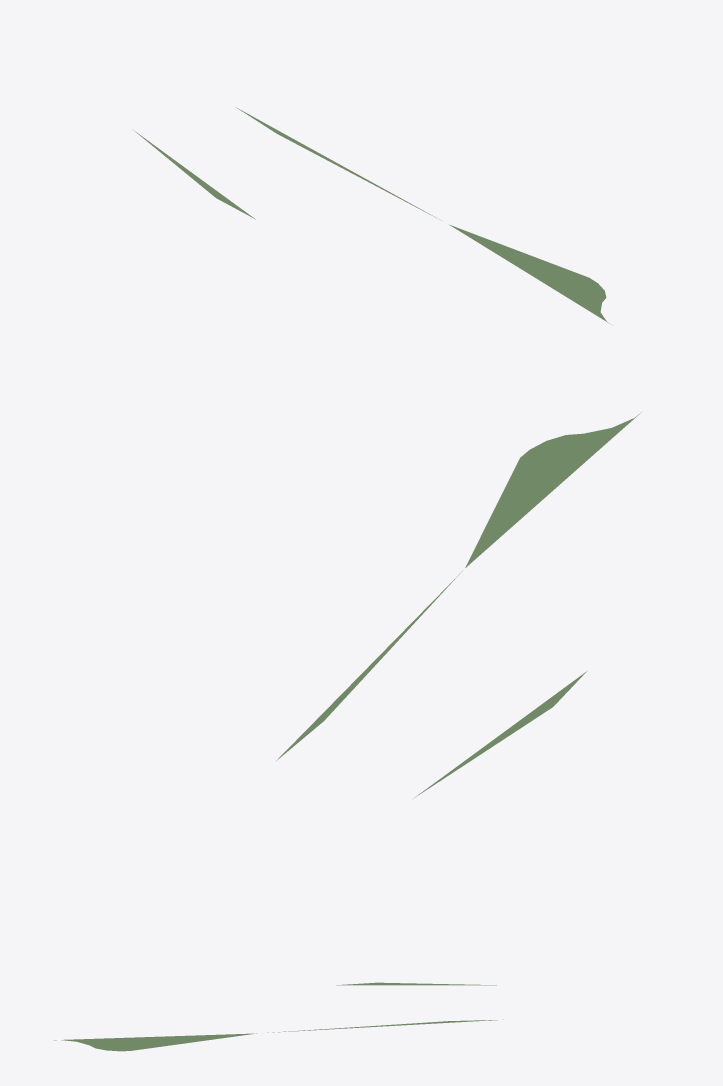
Rendered from c_1647_17818_parks.glb.
3 views of the same model, one above another, from view 1: azimuth 30°, elevation 25°; view 2: azimuth 150°, elevation 25°; view 3: azimuth 270°, elevation 25° (orthographic). The views are drawn at different scales.
Visible parts, largest first — view 1: geometry_0; view 2: geometry_0; view 3: geometry_0.
Part boxes in pixels (box(x1,y1,x2,y2)): geometry_0: box(133, 107, 611, 324); geometry_0: box(276, 411, 642, 798); geometry_0: box(54, 982, 503, 1051).
Size of the model in its own units: 171 by 0 by 471.
